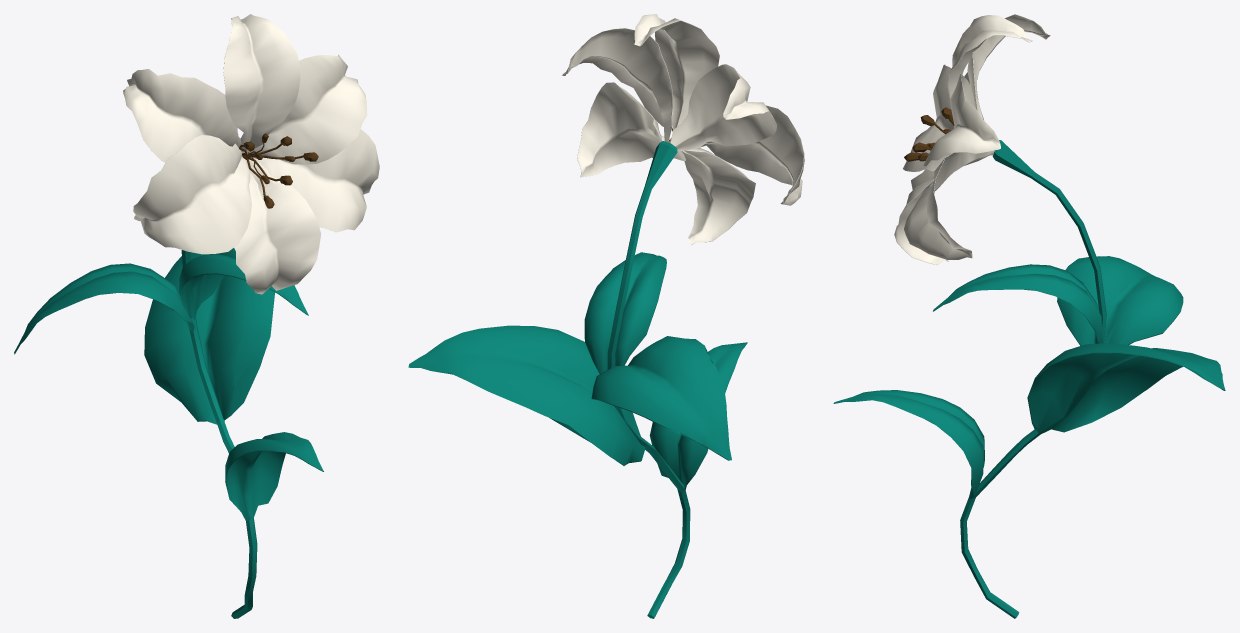
File: white_lily.glb
The picture shows the model from 3 angles, left to right: view 1: azimuth 30°, elevation 25°; view 2: azimuth 150°, elevation 25°; view 3: azimuth 270°, elevation 25°; orthographic projection. The views are drawn at different scales.
Parts seen in each view (by area): view 1: pPlane7, pPlane1, pPlane2, pPlane6, pPlane4, pPlane5, pPlane3, pPlane9, pPlane8; view 2: pPlane7, pPlane9, pPlane5, pPlane8, pPlane3, pPlane4, pPlane6, pPlane2, pPlane1; view 3: pPlane7, pPlane9, pPlane8, pPlane3, pPlane4, pPlane2, pPlane1, pPlane5, pPlane6.
Boxes of the visible parts, x1,y1,x2,y2 form: pPlane7: (144,250,323,618); pPlane1: (133,135,251,254); pPlane2: (223,14,300,153); pPlane6: (234,159,320,294); pPlane4: (240,54,367,164); pPlane5: (123,69,241,162); pPlane3: (251,129,379,232); pPlane9: (14,263,194,354); pPlane8: (179,248,308,320); pPlane7: (408,141,747,618); pPlane9: (591,336,731,460); pPlane5: (670,64,777,150); pPlane8: (584,252,666,373); pPlane3: (577,82,685,177); pPlane4: (562,28,672,142); pPlane6: (680,147,755,244); pPlane2: (634,14,719,142); pPlane1: (700,105,804,205); pPlane7: (833,140,1225,618); pPlane9: (1057,256,1183,345); pPlane8: (933,264,1102,343); pPlane3: (904,150,994,259); pPlane4: (923,73,1000,171); pPlane2: (947,15,1032,99); pPlane1: (903,64,954,171); pPlane5: (964,14,1050,119); pPlane6: (894,169,948,264).
Size of the model in its own units: 10.25 by 20.14 by 12.02.
